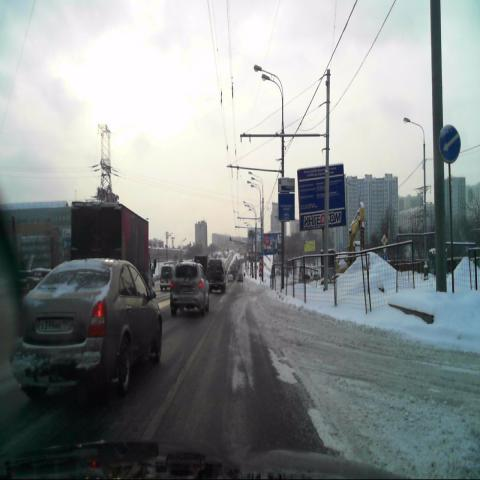4_2_2: (438, 124, 460, 164)
